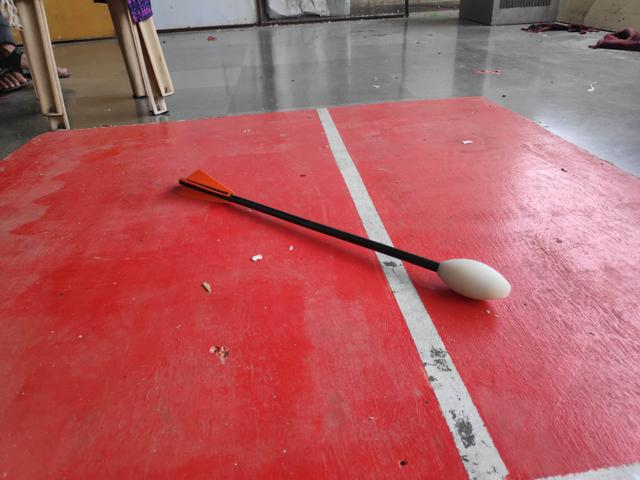Head: (434, 258, 514, 301)
